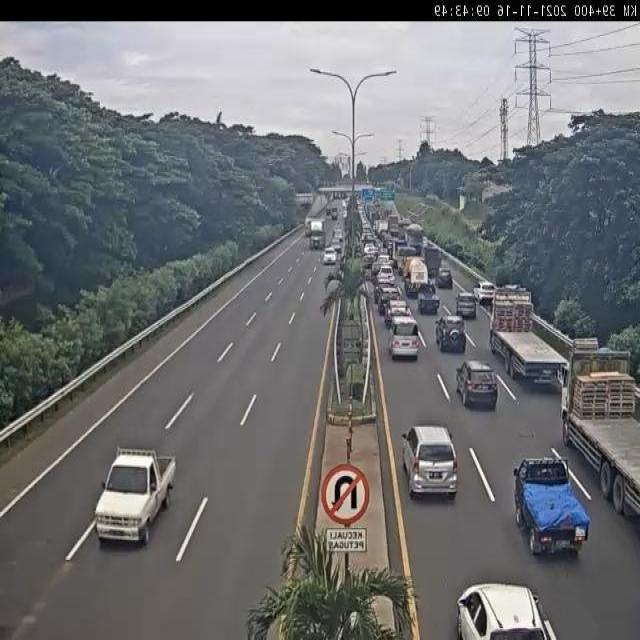Car: (455, 582, 559, 638), (401, 425, 458, 500), (456, 359, 498, 410), (388, 315, 421, 361), (436, 316, 466, 352), (386, 299, 409, 329), (417, 286, 440, 314), (456, 291, 477, 320), (378, 286, 400, 313), (473, 280, 496, 305), (377, 272, 395, 290), (322, 248, 337, 265), (363, 253, 375, 269), (372, 260, 384, 276), (389, 252, 399, 269), (378, 253, 390, 267), (363, 232, 375, 246), (334, 228, 344, 244), (330, 241, 342, 254), (364, 268, 374, 282), (330, 208, 338, 220), (342, 200, 347, 211), (342, 211, 347, 220)
Truck: (562, 334, 640, 508), (93, 446, 175, 546), (513, 456, 591, 555), (488, 290, 564, 390), (406, 258, 428, 298), (423, 242, 443, 280), (405, 224, 424, 252), (308, 220, 324, 248), (387, 214, 399, 233), (376, 220, 388, 238), (398, 218, 411, 230)
